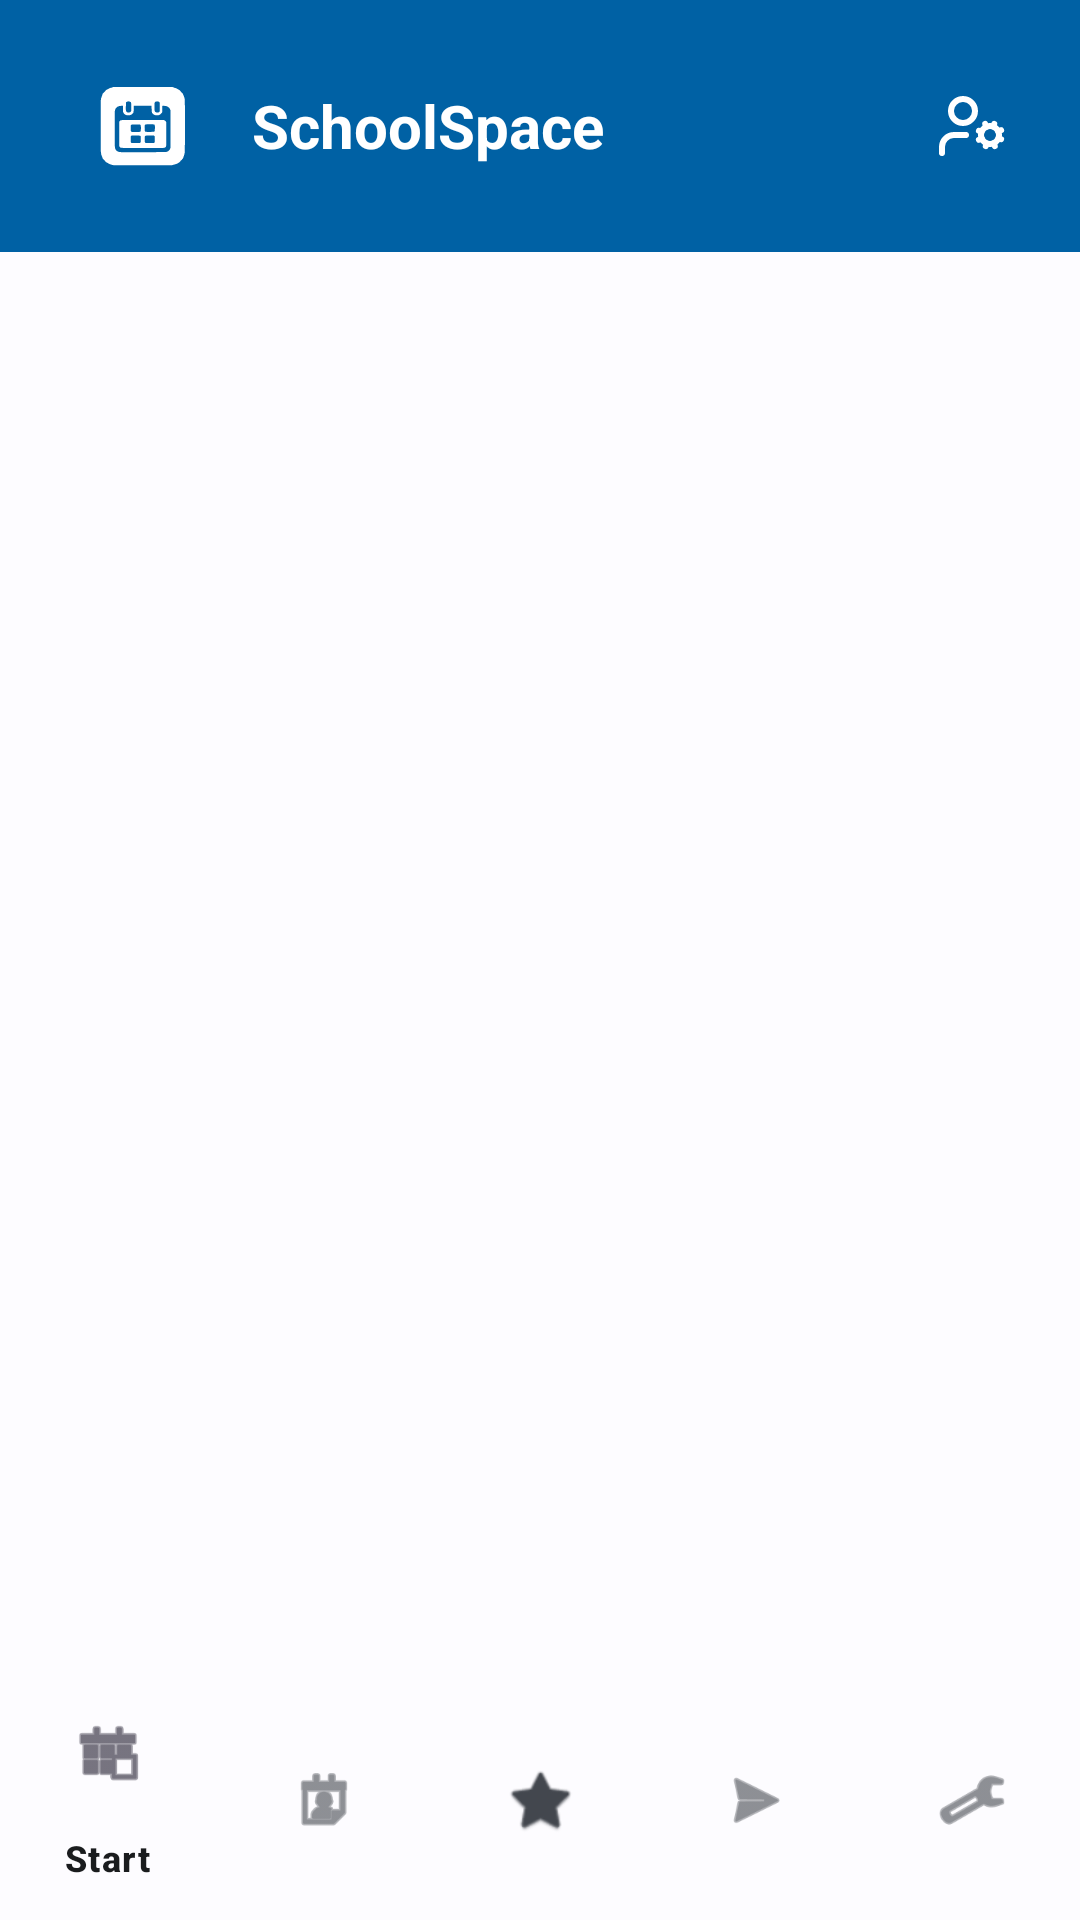

Screen size 1080 x 1920. Icon name, then its box in pixels as (x1, y1, x2, y2):
user settings: (939, 96, 1005, 156)
